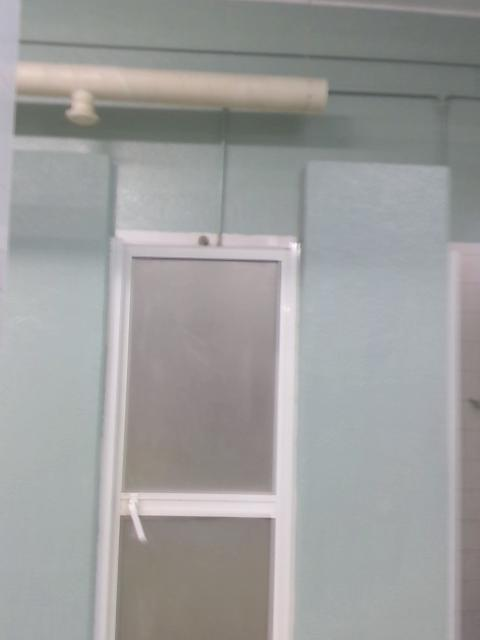closed_door: (87, 228, 300, 638)
